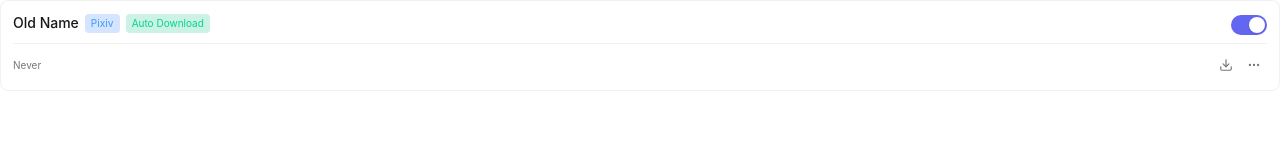
Test: SubscriptionCard inline rename › cancels without committing on Escape
Click the button "Old Name".
click(46, 23)  # box [13,13,79,33]
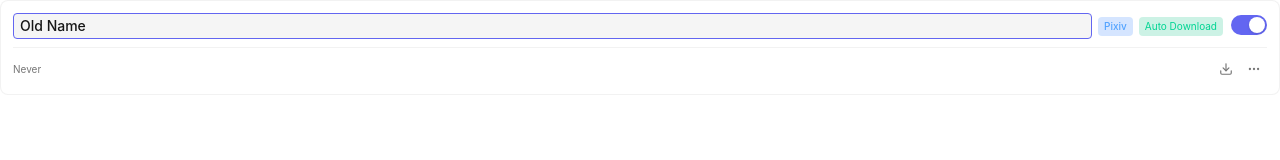
Replace the text in the field showing "Old Name" with "Discarded" at (552,26), box [13,13,1092,39]
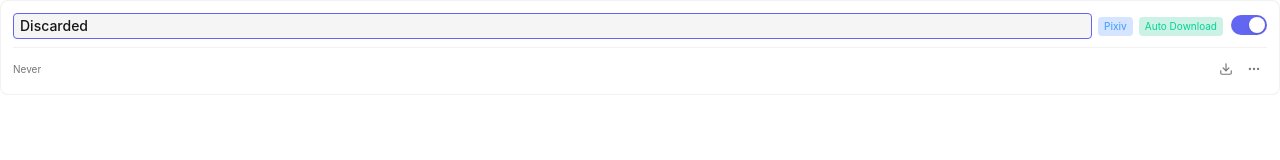
Press Escape in the field showing "Old Name", box [13,13,1092,39]
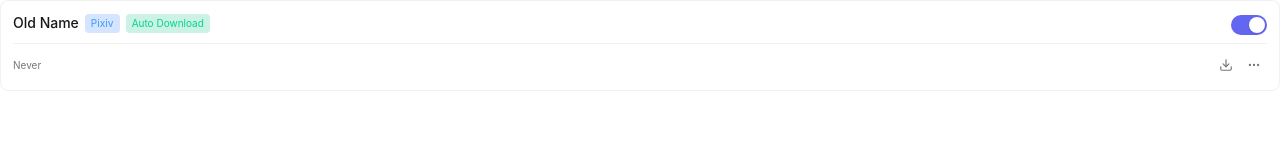
expect the button "Old Name" is shown: met, box [13,13,79,33]
